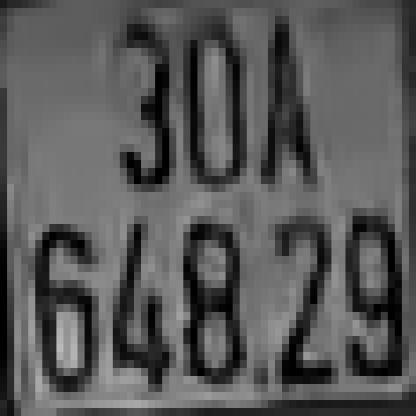0: (183, 24, 240, 192)
2: (268, 208, 331, 376)
3: (113, 24, 169, 192)
4: (113, 216, 176, 384)
6: (35, 216, 99, 384)
8: (176, 216, 240, 376)
9: (338, 208, 395, 368)
A: (254, 16, 317, 184)
